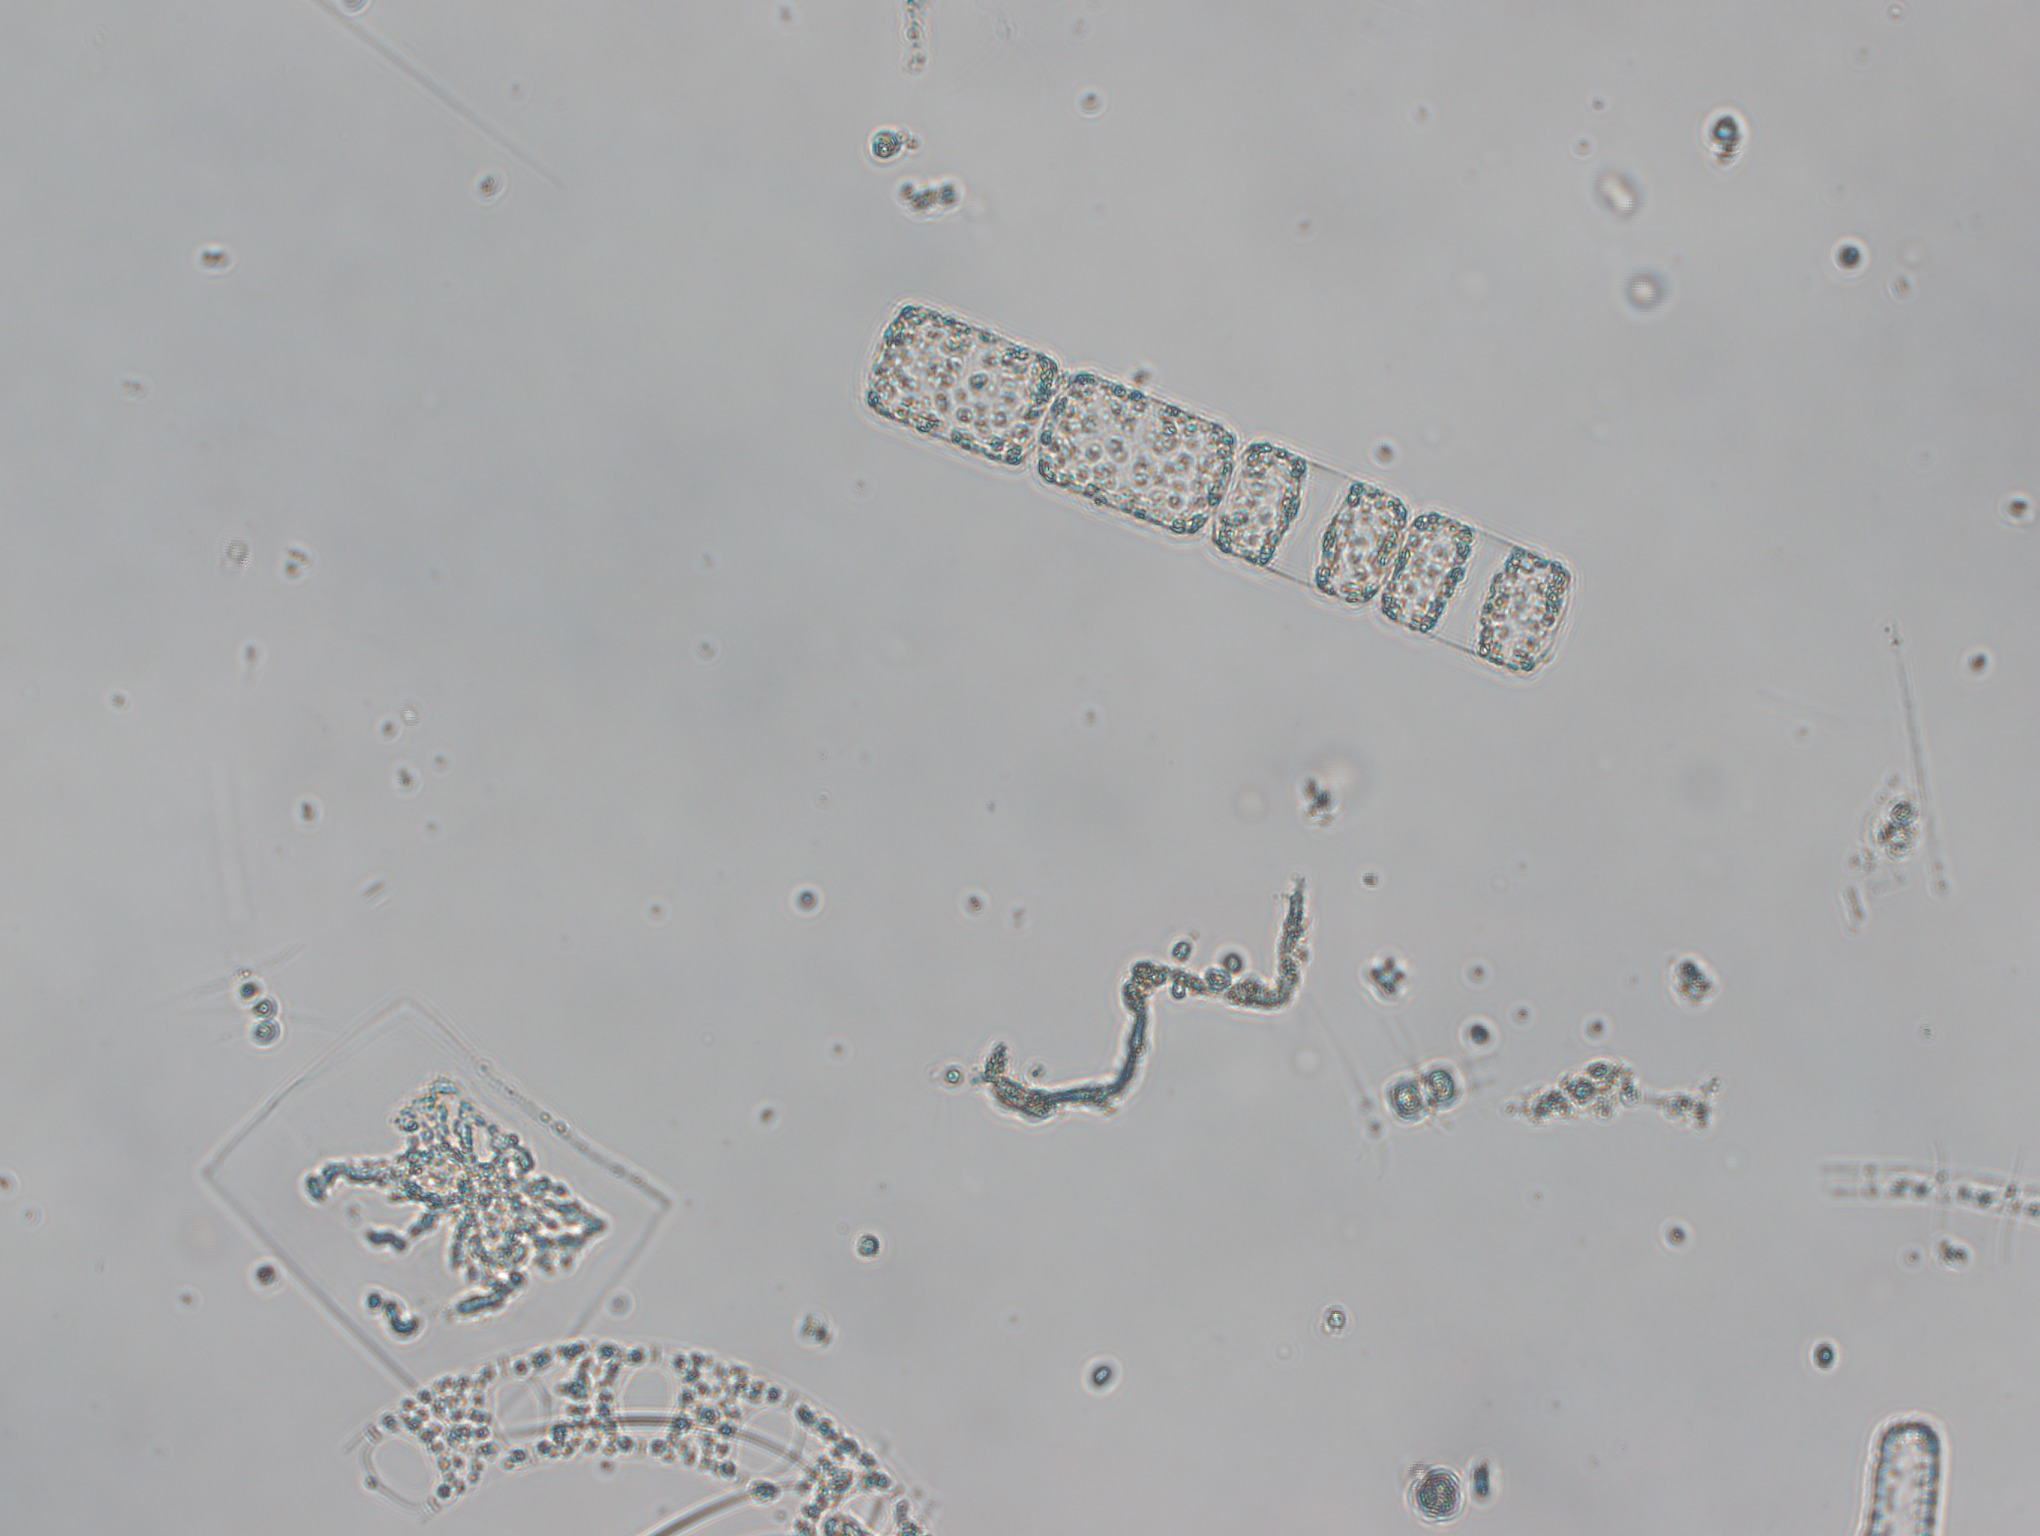chaetoceros: (1326, 1010, 1532, 1171)
eucampia: (352, 1338, 947, 1536)
guinardia flaccida: (856, 290, 1585, 686)
helicotheca: (202, 989, 674, 1341)
